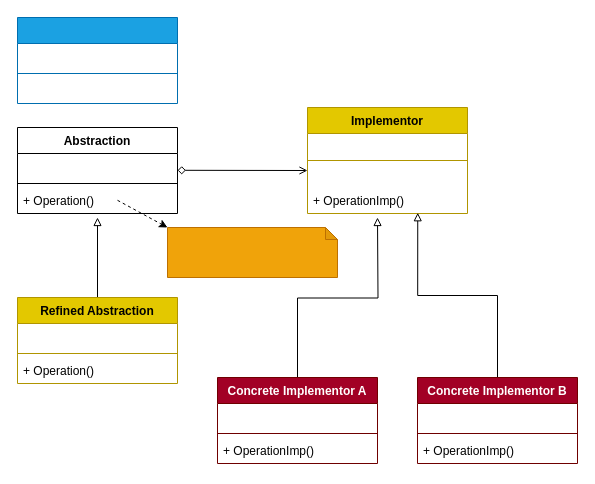
Image size: 595x484. Some labels were removed from this diagram. The centre of each missing label's shape, as x and y in pixels:
"Client" belongs at (x=97, y=60).
"Implementor.OperationImp()" belongs at (x=252, y=252).
